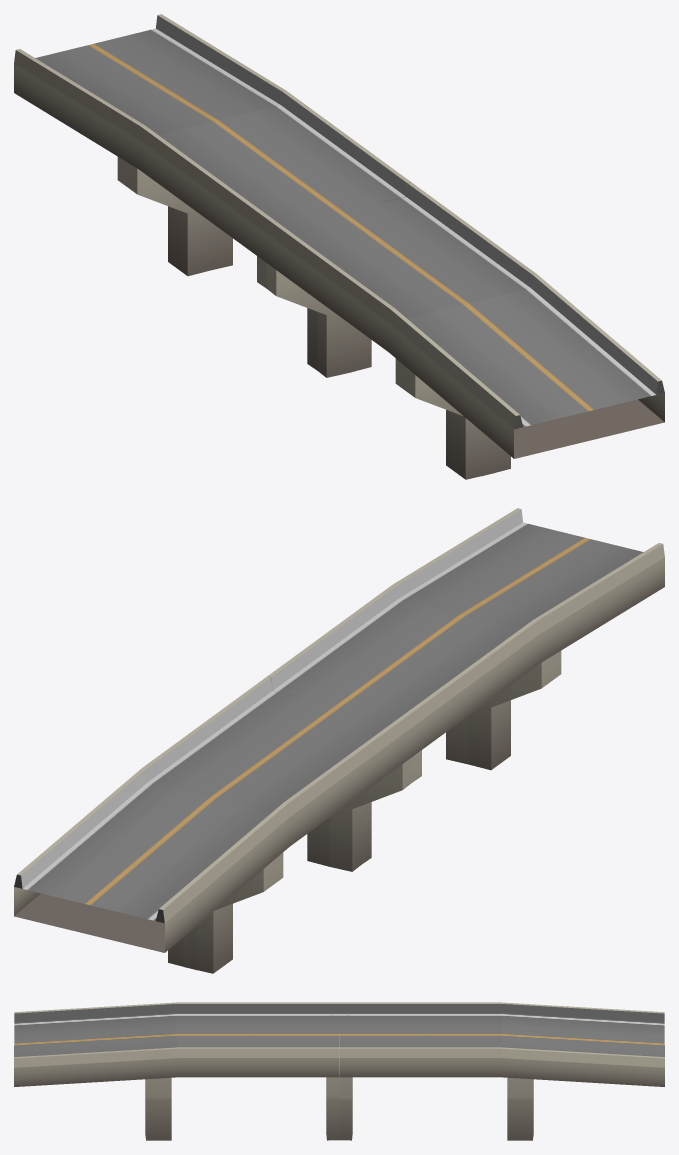
Rendered from SM_City_Bridge_02.fbx.
The picture shows the model from 3 angles, top to bottom: view 1: azimuth 30°, elevation 25°; view 2: azimuth 150°, elevation 25°; view 3: azimuth 270°, elevation 25°; orthographic projection. The views are drawn at different scales.
Parts seen in each view (by area): view 1: SM_City_Bridge_02; view 2: SM_City_Bridge_02; view 3: SM_City_Bridge_02.
Boxes of the visible parts, x1,y1,x2,y2 form: SM_City_Bridge_02: (14, 14, 664, 479); SM_City_Bridge_02: (14, 508, 664, 973); SM_City_Bridge_02: (14, 1002, 664, 1140).
Bounding box in the file's own units: 0.6257 × 0.6563 × 3.6.
